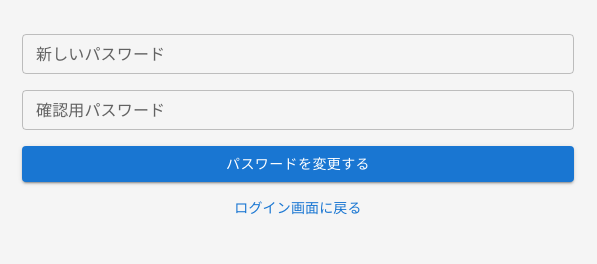
Test: PasswordResetPage › AUTH-FE-060: 429 エラー時にレート制限メッセージが表示される
The image size is (597, 264).
Type "NewPass1!" into the password field labelled "新しいパスワード" at (298, 54), box x1=22 y1=34 x2=574 y2=74
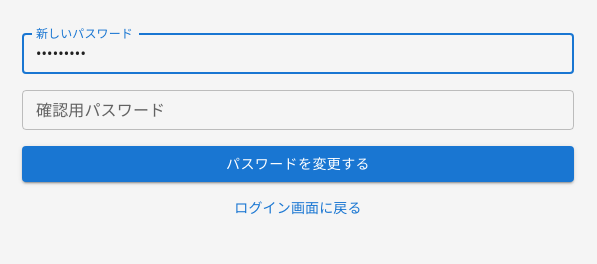
Type "NewPass1!" into the password field labelled "確認用パスワード" at (298, 110), box x1=22 y1=90 x2=574 y2=130
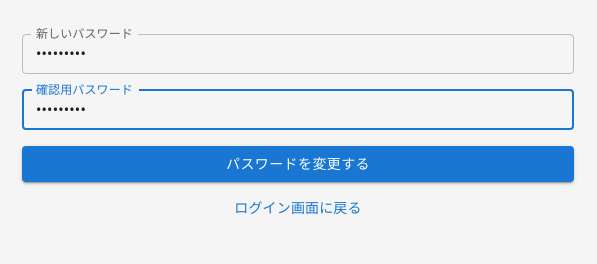
Click the button "パスワードを変更する" at (298, 164), box x1=22 y1=146 x2=574 y2=182
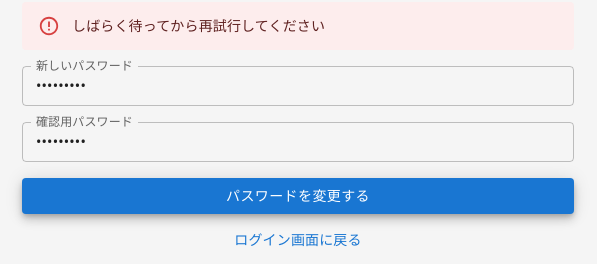
Now the text "しばらく待ってから再試行してください" is shown, box x1=72 y1=18 x2=325 y2=34
